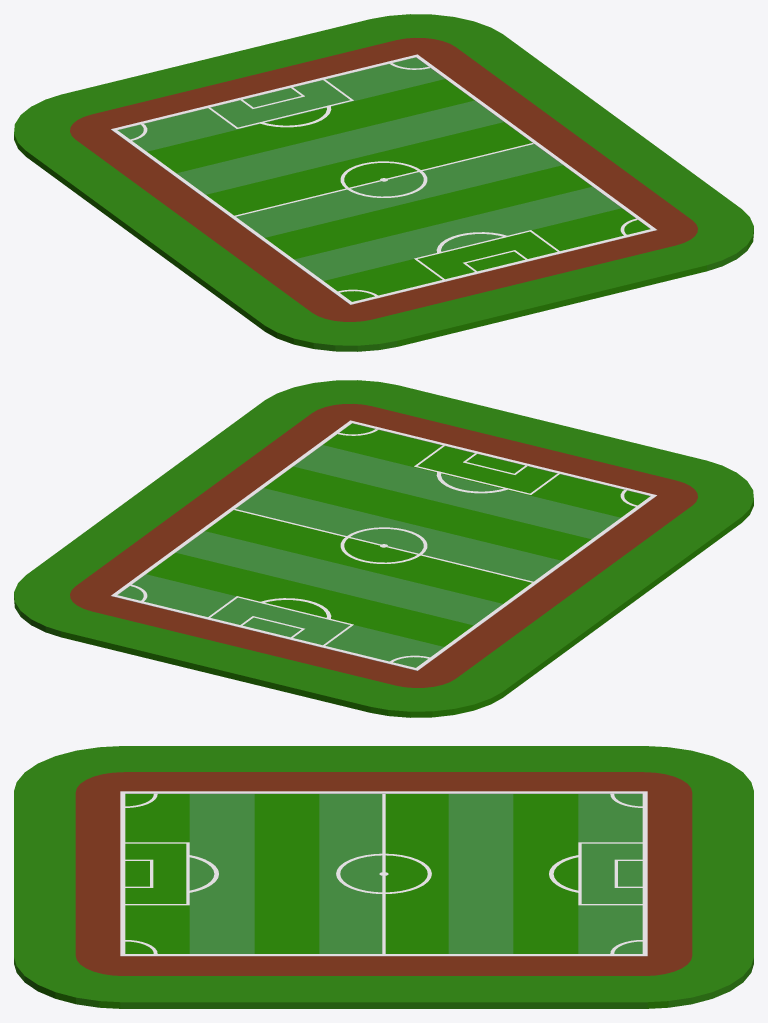
File: StadiumFloor.fbx
3 renders of one model, top to bottom at view 1: azimuth 30°, elevation 25°; view 2: azimuth 150°, elevation 25°; view 3: azimuth 270°, elevation 25°, orthographic. The views are drawn at different scales.
Visible parts, largest first — view 1: StadiumFloor; view 2: StadiumFloor; view 3: StadiumFloor.
Boxes of the visible parts, <box> form: StadiumFloor: <box>14,14,753,351</box>; StadiumFloor: <box>14,380,753,717</box>; StadiumFloor: <box>14,746,753,1008</box>.
Bounding box in the file's own units: 2644 × 34.69 × 3229.
